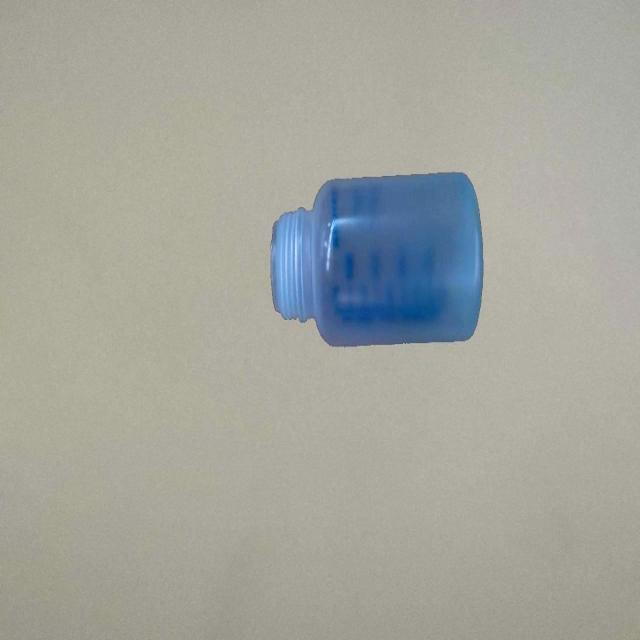bottle: (270, 169, 483, 350)
